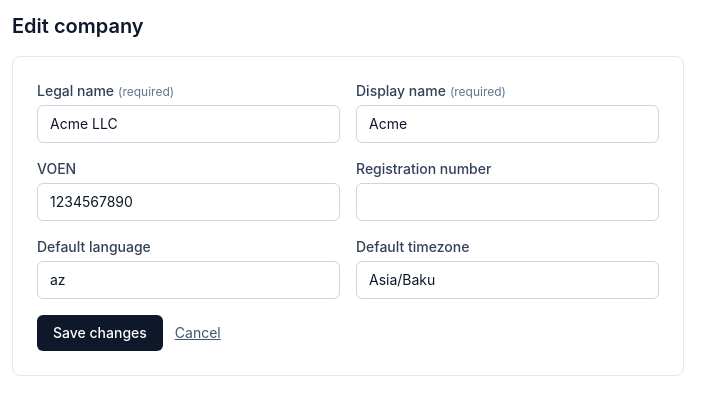
Scenario: AdminCompanyEditPage › renders backend field errors
Expected: the field labelled "Legal name(required)" is shown, [37,105,340,143]
Click the button "Save changes". click: coordinates (100, 333)
box: [37,315,163,351]
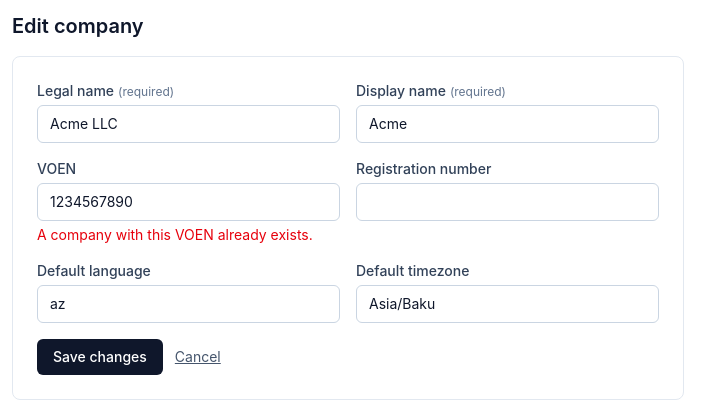
Now the text "A company with this VOEN already exists." is shown, box [37,225,340,245]
